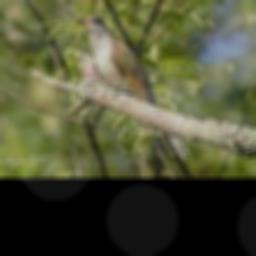Cuckoo: (77, 15, 190, 164)
